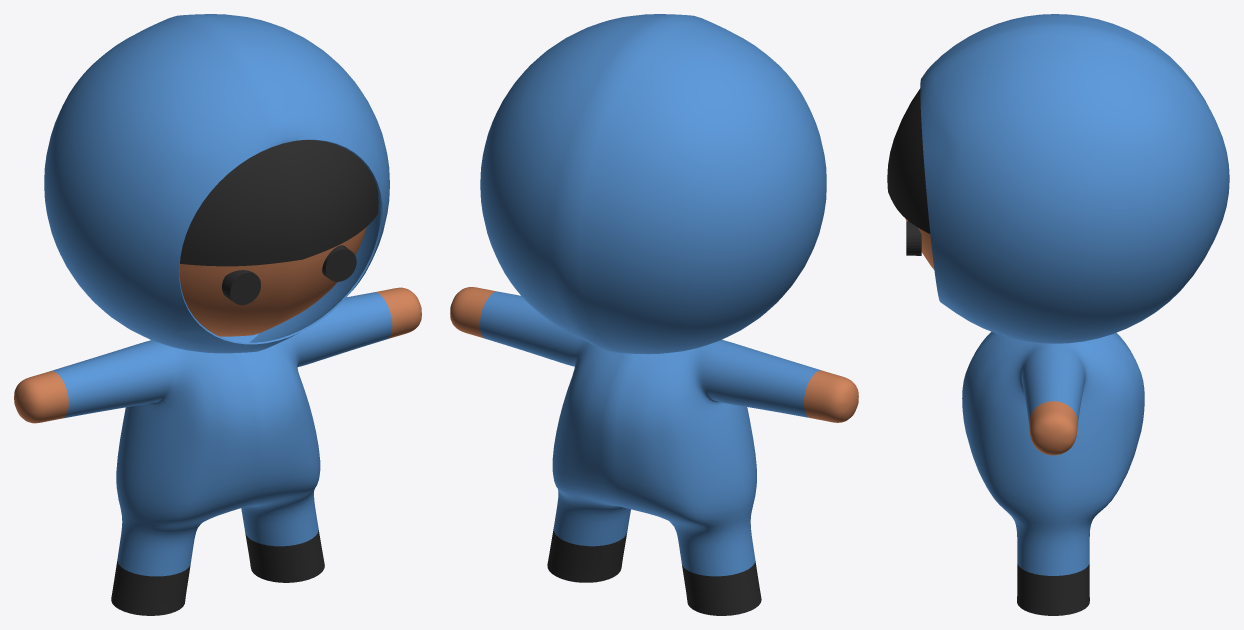
Rendered from StickMan 10.fbx.
3 renders of one model, left to right at view 1: azimuth 30°, elevation 25°; view 2: azimuth 150°, elevation 25°; view 3: azimuth 270°, elevation 25°, orthographic. The views are drawn at different scales.
Parts seen in each view (by area): view 1: Character; view 2: Character; view 3: Character.
Part boxes in pixels (bbox=[...]): Character: bbox=[14, 14, 421, 615]; Character: bbox=[450, 14, 858, 615]; Character: bbox=[887, 14, 1229, 615].
Size of the model in its own units: 84 by 112 by 64.
